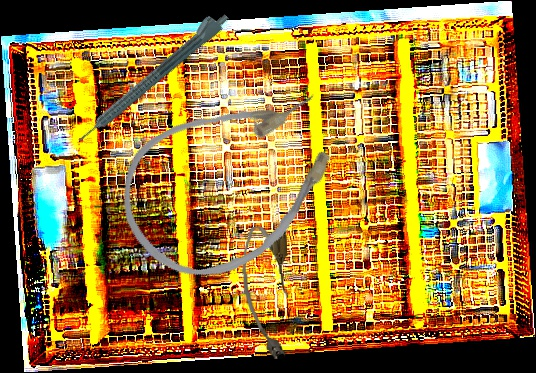Cannula: (96, 59, 370, 305), (240, 225, 293, 361)
Handpiece: (69, 4, 232, 147)
